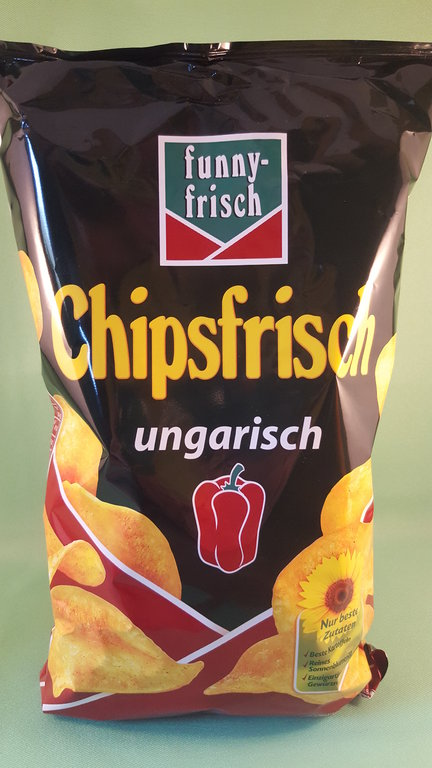chipsfrisch: (1, 41, 432, 721)
